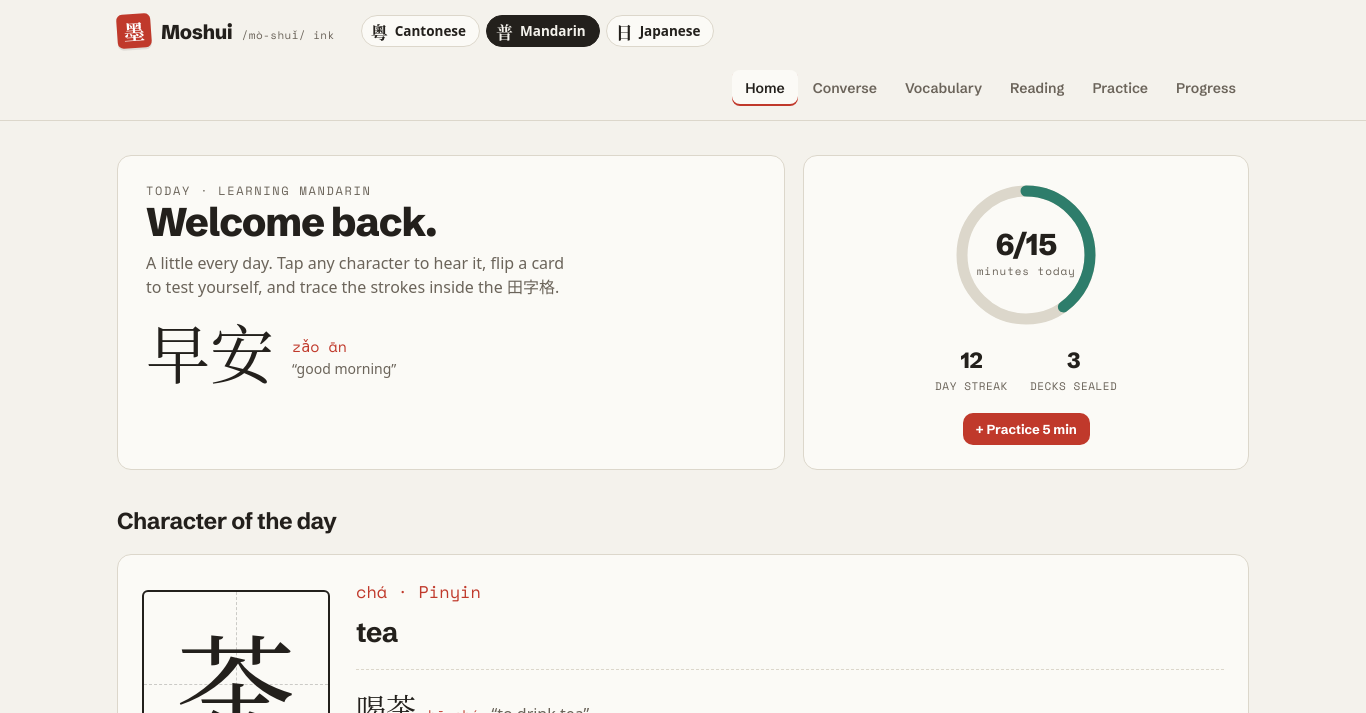
Test case: App loads and renders › switches to the Practice screen and renders a quiz
Click the button "Practice": (1120, 88) [1079,70,1161,106]
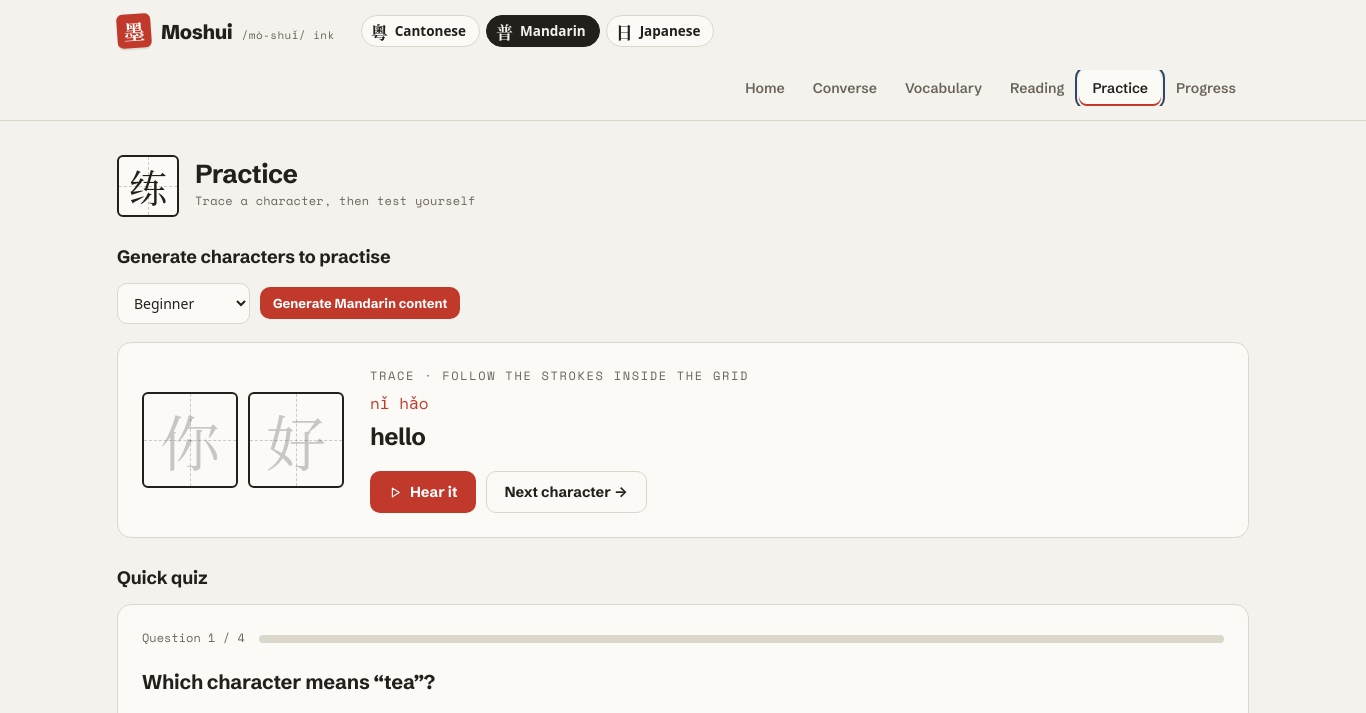
Expected: the heading "Practice" is shown, [195,158,298,190]
Expected: the heading "Quick quiz" is shown, [117,566,208,590]
